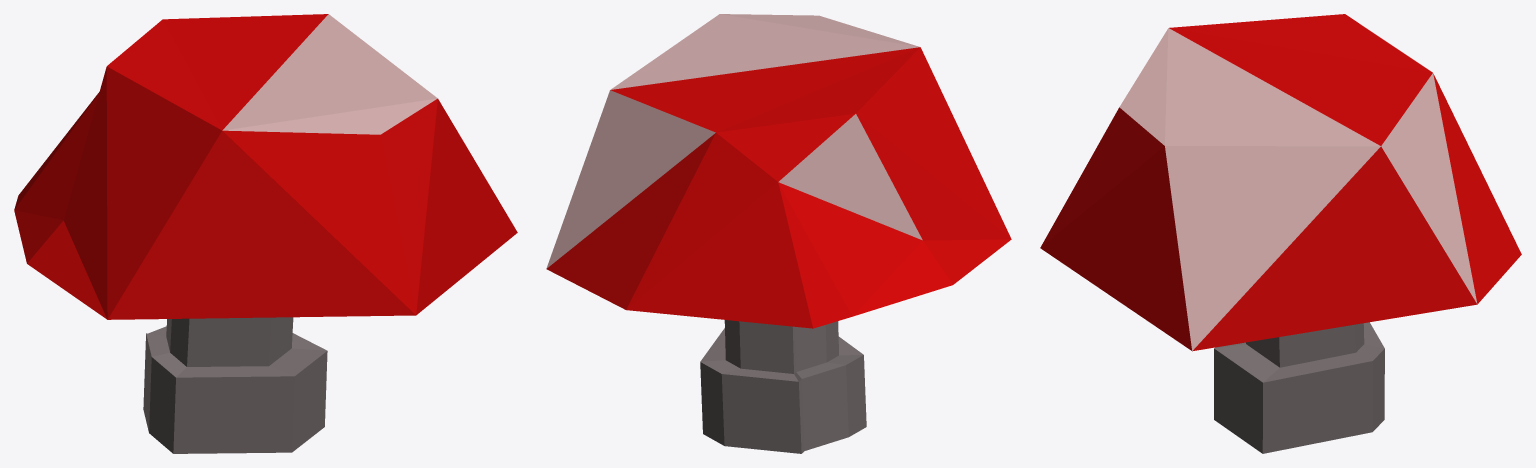
Rendered from mushroom.FBX.
3 views of the same model, side by side, from view 1: azimuth 30°, elevation 25°; view 2: azimuth 150°, elevation 25°; view 3: azimuth 270°, elevation 25° (orthographic). The views are drawn at different scales.
Visible parts, largest first — view 1: mushroom; view 2: mushroom; view 3: mushroom.
Part boxes in pixels (x1,y1,x2,y2): mushroom: [14, 14, 517, 453]; mushroom: [546, 14, 1011, 453]; mushroom: [1040, 14, 1521, 453].
Bounding box in the file's own units: 0.4497 × 0.4618 × 0.3783.
